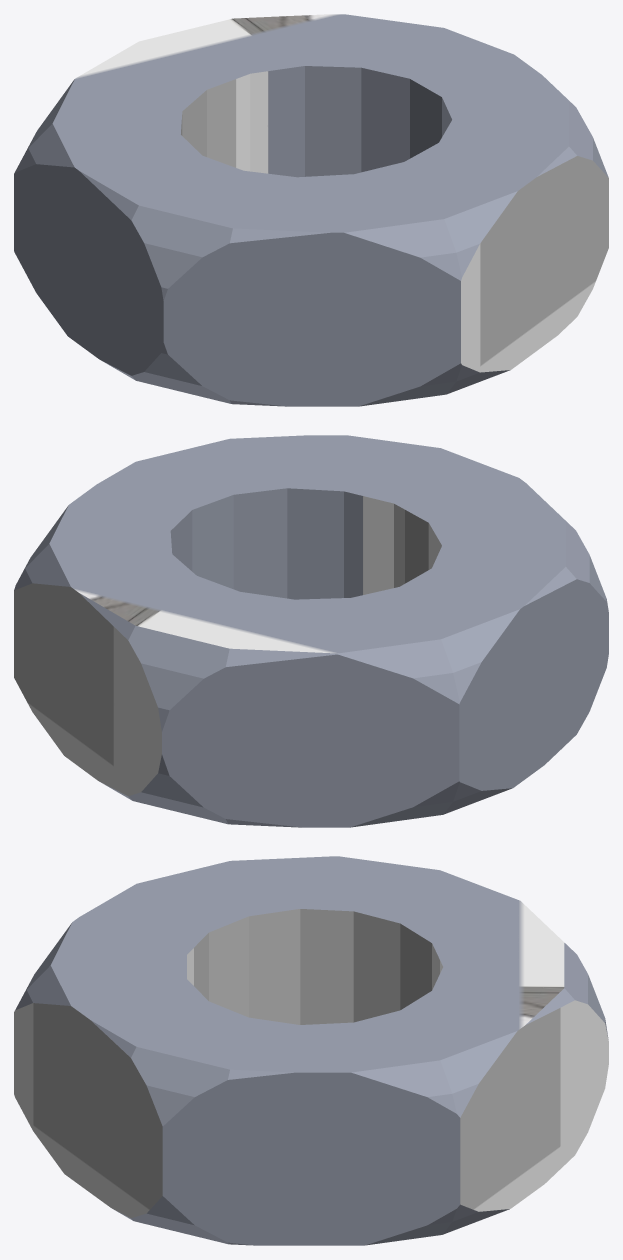
The model's file is Nut.glb.
3 renders of one model, top to bottom at view 1: azimuth 30°, elevation 25°; view 2: azimuth 150°, elevation 25°; view 3: azimuth 270°, elevation 25°, orthographic.
Visible parts, largest first — view 1: Nut.033; view 2: Nut.033; view 3: Nut.033.
Part boxes in pixels (bbox=[...]): Nut.033: bbox=[14, 14, 608, 406]; Nut.033: bbox=[14, 435, 608, 827]; Nut.033: bbox=[14, 856, 608, 1245].
Size of the model in its own units: 0.2908 by 0.1085 by 0.3382.
1 material, 1 textured.
